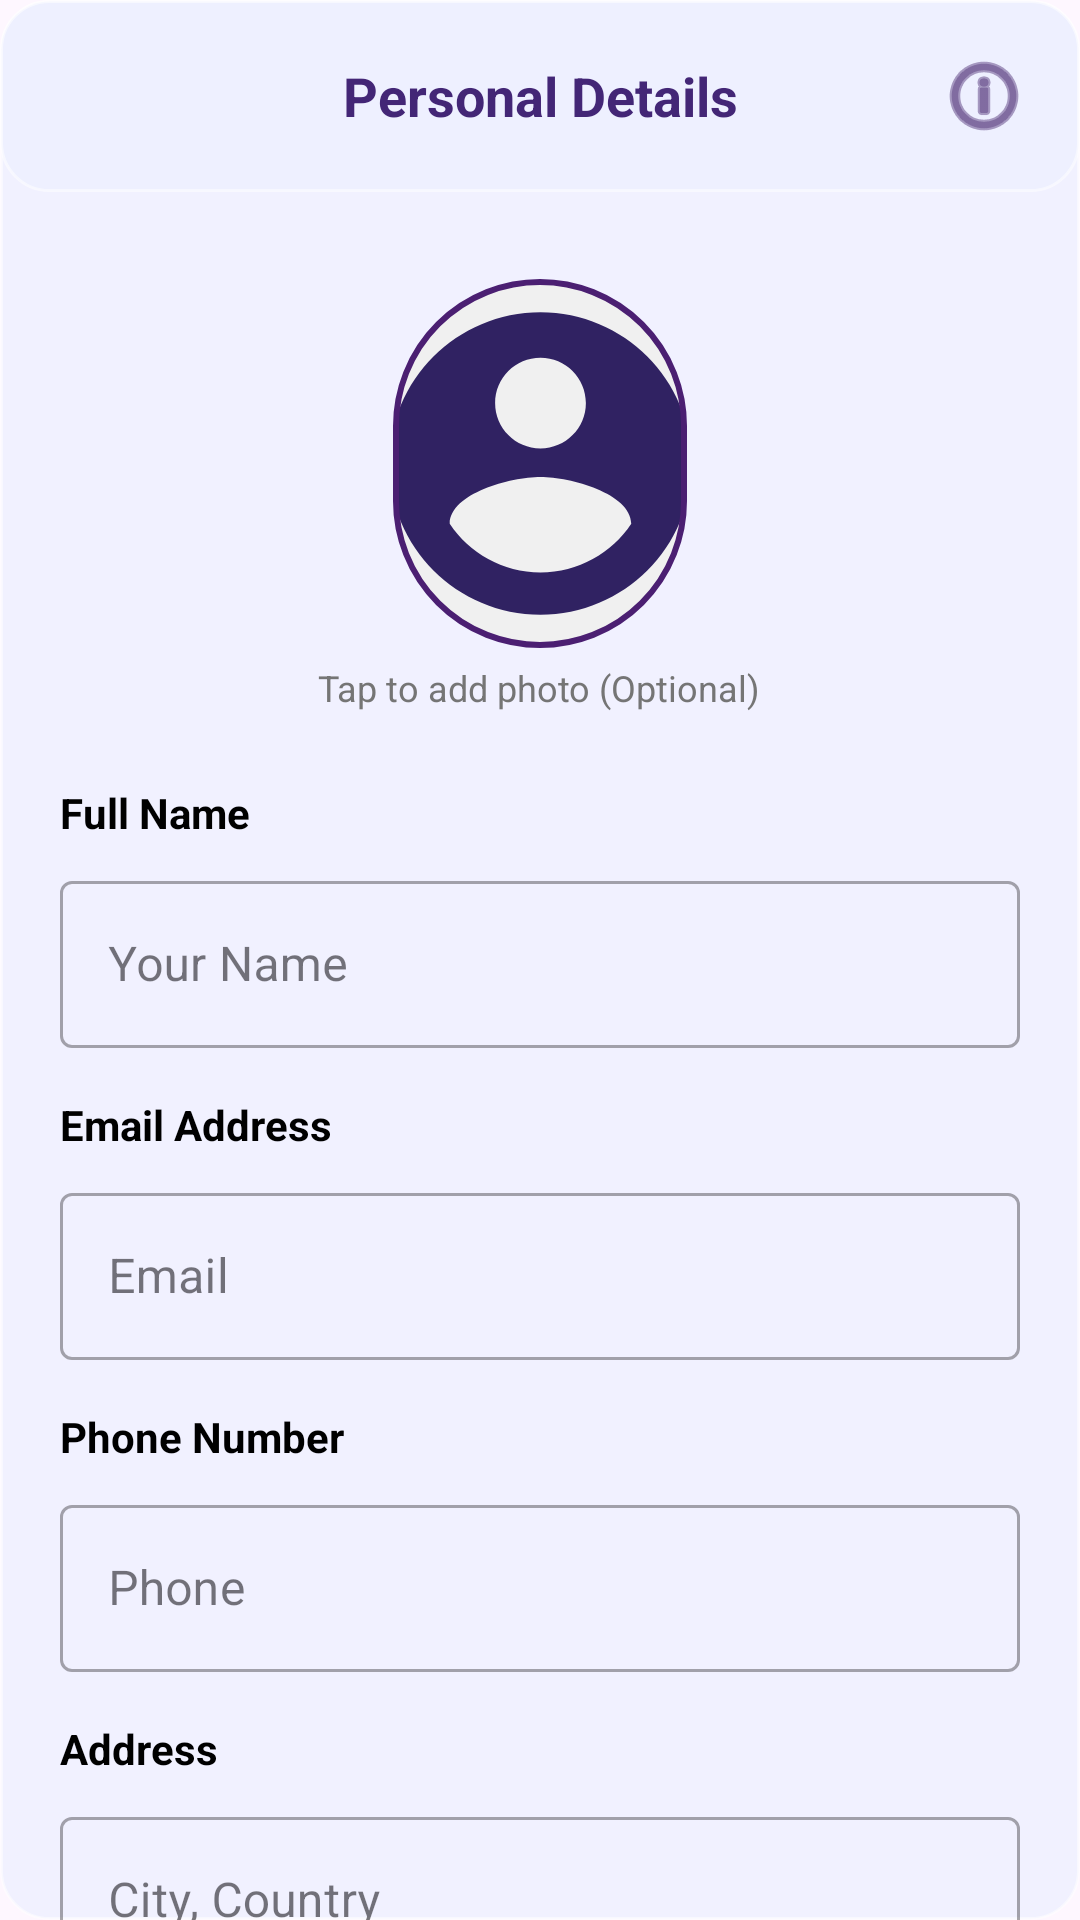

Locate icon controls on the screen. Image size 1080w x 1920h, boxes as (x1=x1, y1=y1, x2=x2, y2=y2).
info details: (x1=949, y1=62, x2=1019, y2=131)
